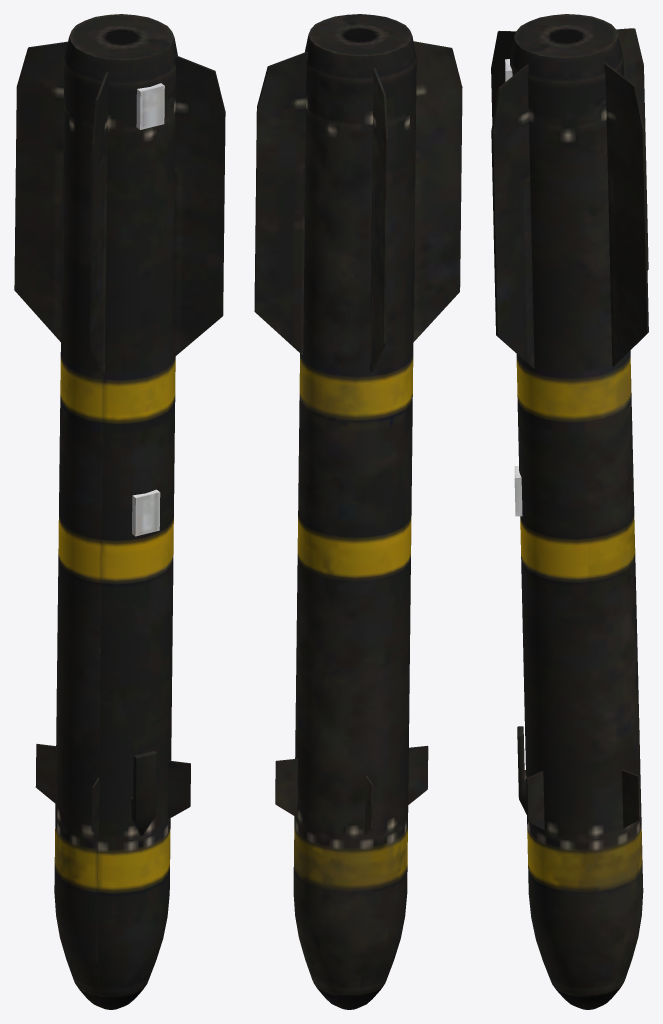
The model's file is Hellfire.glb.
3 views of the same model, side by side, from view 1: azimuth 30°, elevation 25°; view 2: azimuth 150°, elevation 25°; view 3: azimuth 270°, elevation 25° (orthographic).
Parts seen in each view (by area): view 1: hellfire; view 2: hellfire; view 3: hellfire.
Part boxes in pixels (x1,y1,x2,y2): hellfire: (14, 14, 225, 1009); hellfire: (254, 14, 462, 1009); hellfire: (491, 14, 648, 1009).
Size of the model in its own units: 0.000895 by 0.00626 by 0.000922.
1 material, 1 textured.
